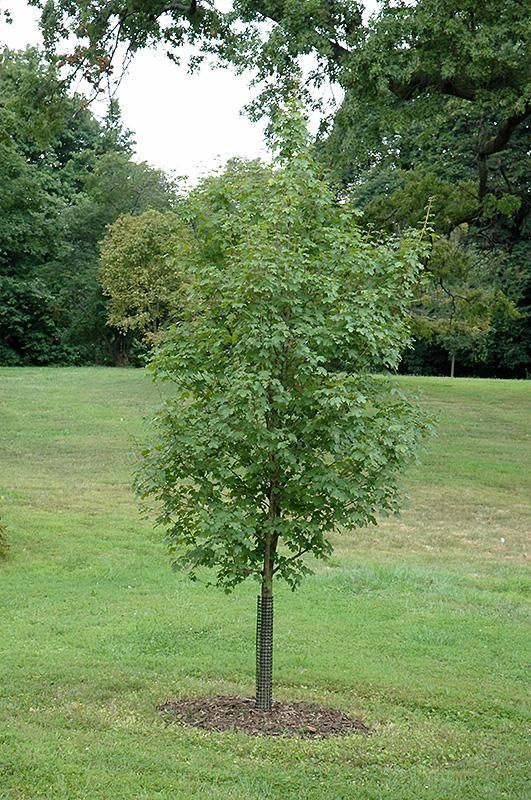tree: (130, 154, 432, 712)
